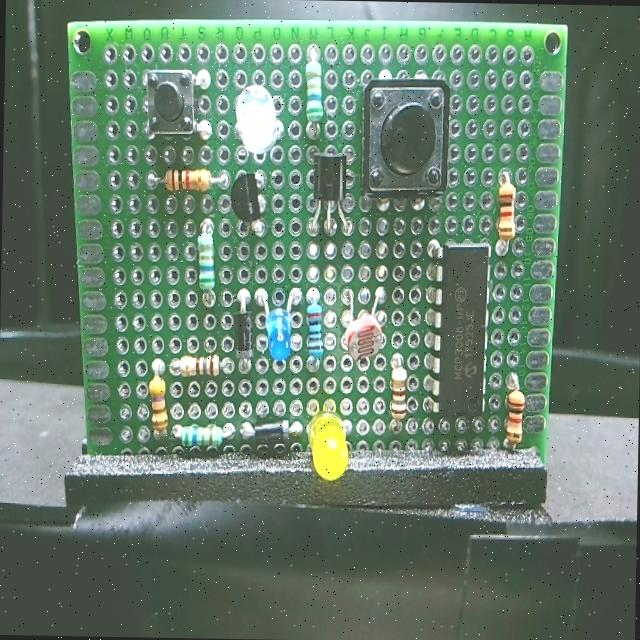IC: (422, 230, 493, 420)
cds: (332, 297, 382, 362)
diode: (230, 288, 264, 374), (242, 405, 298, 448)
led: (230, 82, 282, 162), (264, 278, 302, 368), (306, 403, 349, 482)
resistor: (150, 153, 226, 204), (489, 166, 524, 250), (296, 292, 327, 377), (498, 368, 528, 452), (293, 54, 329, 120), (175, 412, 228, 456), (168, 344, 226, 384), (191, 224, 215, 306), (388, 358, 412, 424), (148, 369, 168, 436)
switch: (360, 73, 456, 194), (142, 57, 200, 136)
transistor: (306, 148, 352, 236), (232, 162, 269, 234)
